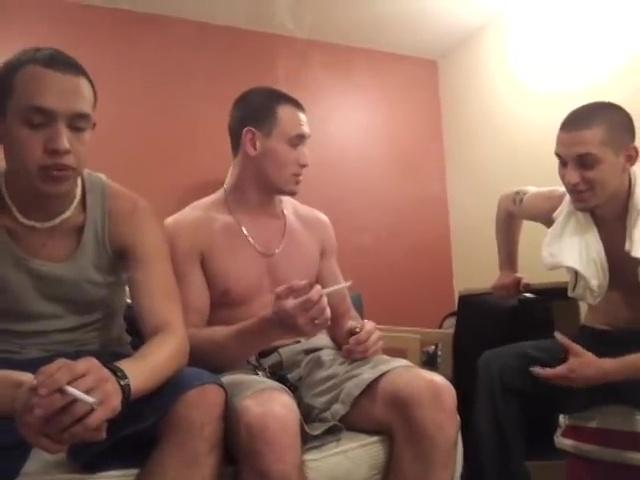cigarette: (61, 383, 102, 408), (321, 279, 354, 295)
